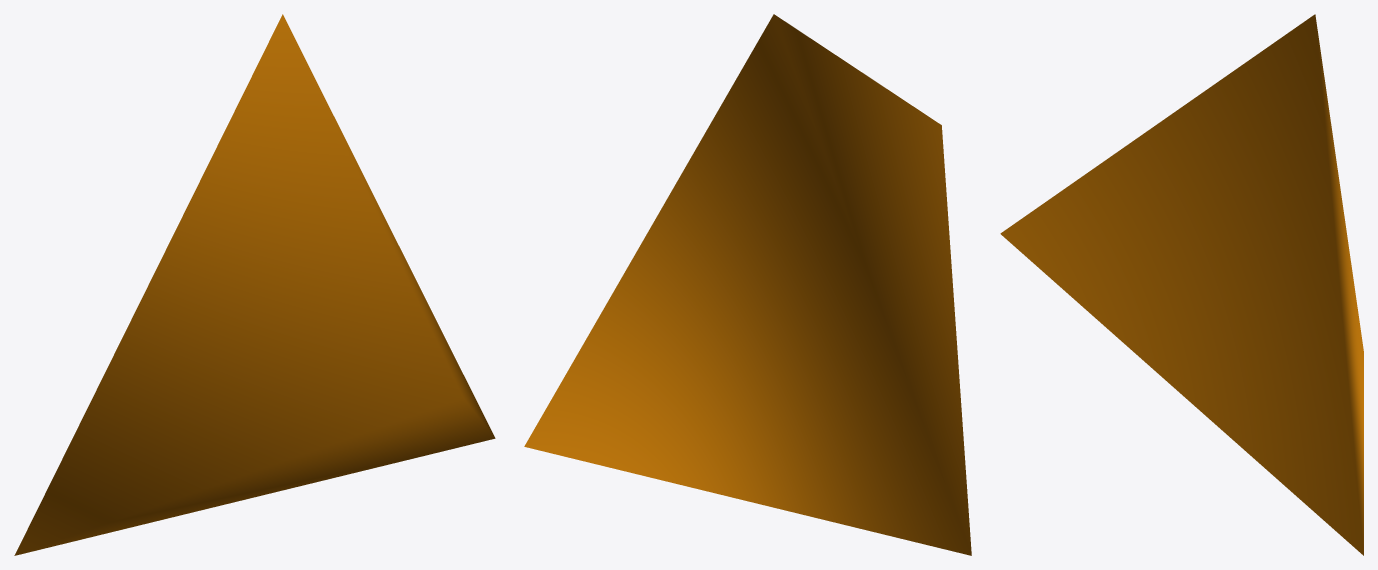
Rendered from fixture_head.glb.
The picture shows the model from 3 angles, left to right: view 1: azimuth 30°, elevation 25°; view 2: azimuth 150°, elevation 25°; view 3: azimuth 270°, elevation 25°; orthographic projection. The views are drawn at different scales.
Parts seen in each view (by area): view 1: fixture_head; view 2: fixture_head; view 3: fixture_head.
Boxes of the visible parts, left/top/right/bottom form: fixture_head: left=14, top=14, right=495, bottom=555; fixture_head: left=524, top=14, right=971, bottom=555; fixture_head: left=1000, top=14, right=1363, bottom=555.
Bounding box in the file's own units: 0.2 × 0.2 × 0.15.
Materials: 1 (1 with a texture image).
